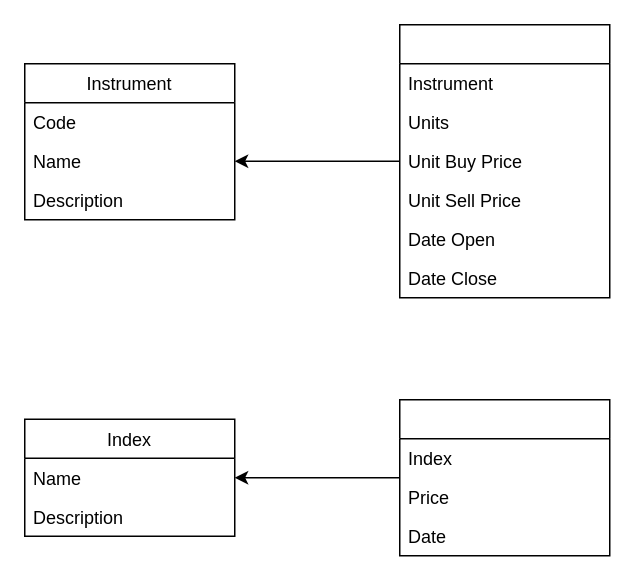
This 635x581 diagram has some shape labels left out. The shapes that lost their labels are listed below. From the top down, each one's box as (x1, y1, x2, y2) in pixels, then its label:
(398, 23, 610, 298): Transaction
(398, 398, 610, 556): Index Price
